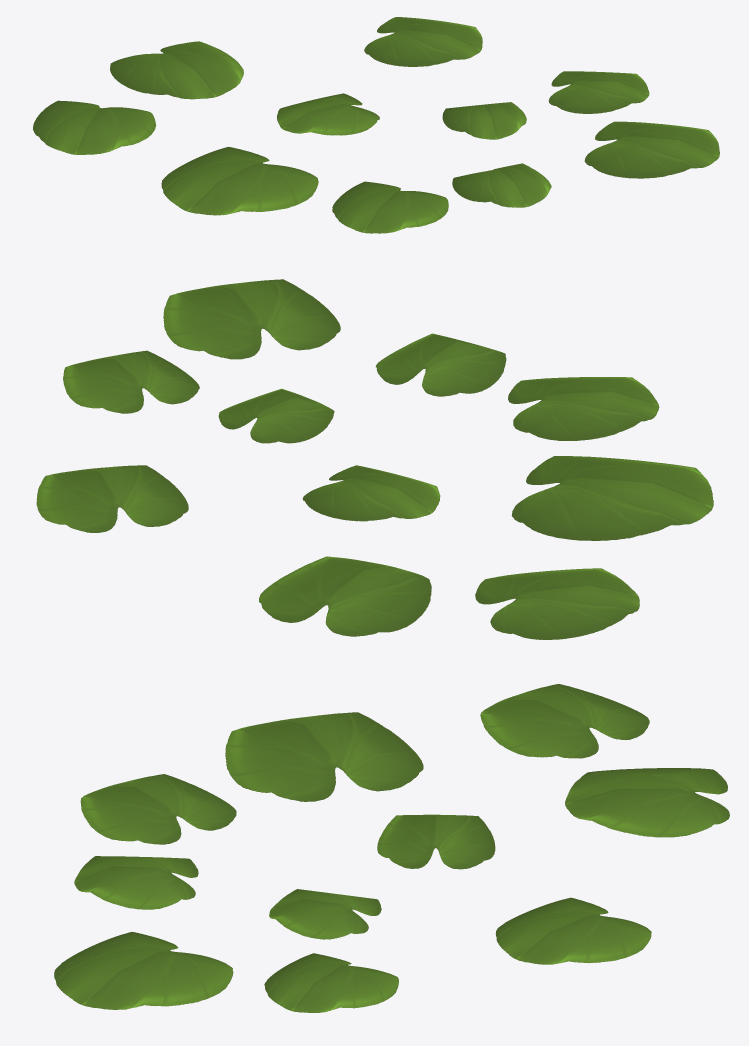
The model's file is Lily Multi 2.fbx.
The picture shows the model from 3 angles, top to bottom: view 1: azimuth 30°, elevation 25°; view 2: azimuth 150°, elevation 25°; view 3: azimuth 270°, elevation 25°; orthographic projection. The views are drawn at different scales.
Visible parts, largest first — view 1: Lily Multi 2; view 2: Lily Multi 2; view 3: Lily Multi 2.
Part boxes in pixels (left/top/right/bottom): Lily Multi 2: left=33, top=17, right=719, bottom=233; Lily Multi 2: left=36, top=279, right=713, bottom=639; Lily Multi 2: left=54, top=684, right=729, bottom=1012.
Bounding box in the file's own units: 1.19 × 0.0321 × 1.02.
